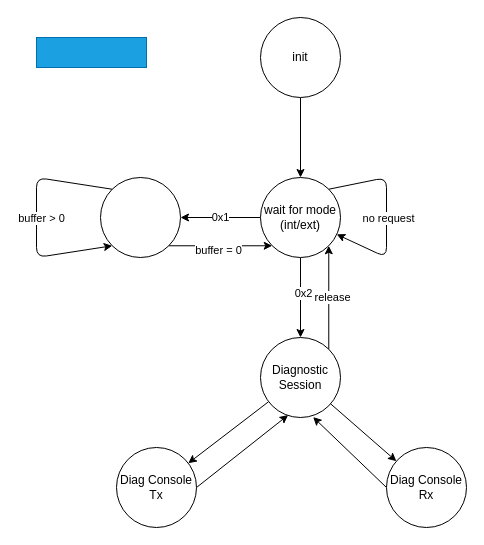
Image size: 484x545. Some labels were removed from this diagram. The centre of each missing label's shape, as x and y in pixels:
"Console Tx" goes at (x=140, y=217).
"Uart Manager" goes at (x=91, y=52).
